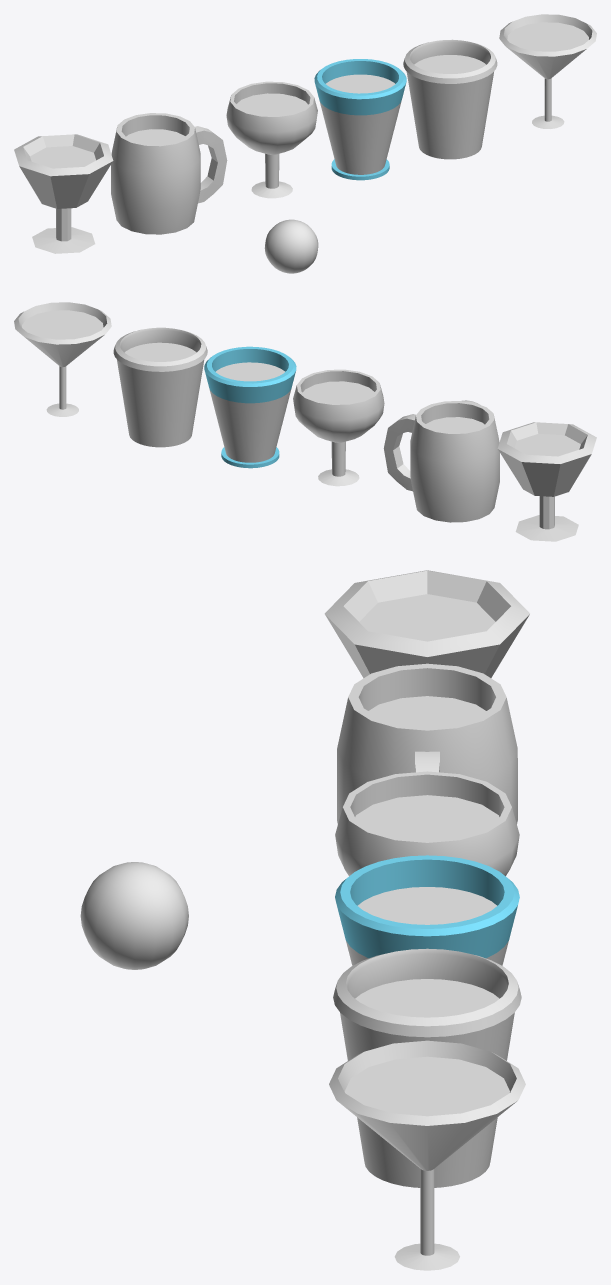
File: glasstypes.fbx
3 renders of one model, top to bottom at view 1: azimuth 30°, elevation 25°; view 2: azimuth 150°, elevation 25°; view 3: azimuth 270°, elevation 25°, orthographic. The views are drawn at different scales.
Parts seen in each view (by area): view 1: Cylinder.017, cuppp, pilsher_glass, glass.002, Cylinder.012, Cylinder.009, ифдд-е.001; view 2: Cylinder.017, cuppp, pilsher_glass, glass.002, Cylinder.012, Cylinder.009; view 3: cuppp, Cylinder.017, Cylinder.009, glass.002, pilsher_glass, Cylinder.012, ифдд-е.001.
Part boxes in pixels (x1,y1,x2,y2): Cylinder.017: [111, 113, 227, 234]; cuppp: [403, 39, 497, 159]; pilsher_glass: [314, 59, 406, 180]; glass.002: [14, 134, 113, 253]; Cylinder.012: [226, 81, 317, 198]; Cylinder.009: [499, 14, 596, 128]; ифдд-е.001: [264, 219, 318, 273]; Cylinder.017: [383, 401, 499, 522]; cuppp: [113, 327, 207, 447]; pilsher_glass: [204, 346, 296, 468]; glass.002: [497, 422, 596, 541]; Cylinder.012: [293, 369, 384, 486]; Cylinder.009: [14, 302, 111, 416]; cuppp: [333, 948, 521, 1187]; Cylinder.017: [337, 663, 517, 824]; Cylinder.009: [329, 1040, 525, 1270]; glass.002: [324, 570, 529, 678]; pilsher_glass: [335, 855, 519, 965]; Cylinder.012: [335, 771, 519, 876]; ифдд-е.001: [80, 862, 188, 969].
Bounding box in the file's own units: 492 × 86.95 × 168.
